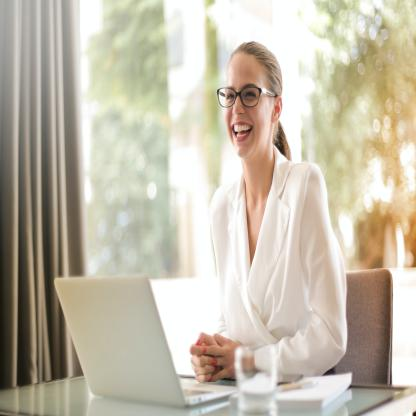Eye: (245, 88, 256, 102), (225, 91, 236, 103)
Mouth: (230, 121, 254, 142)
Nose: (232, 96, 245, 115)
